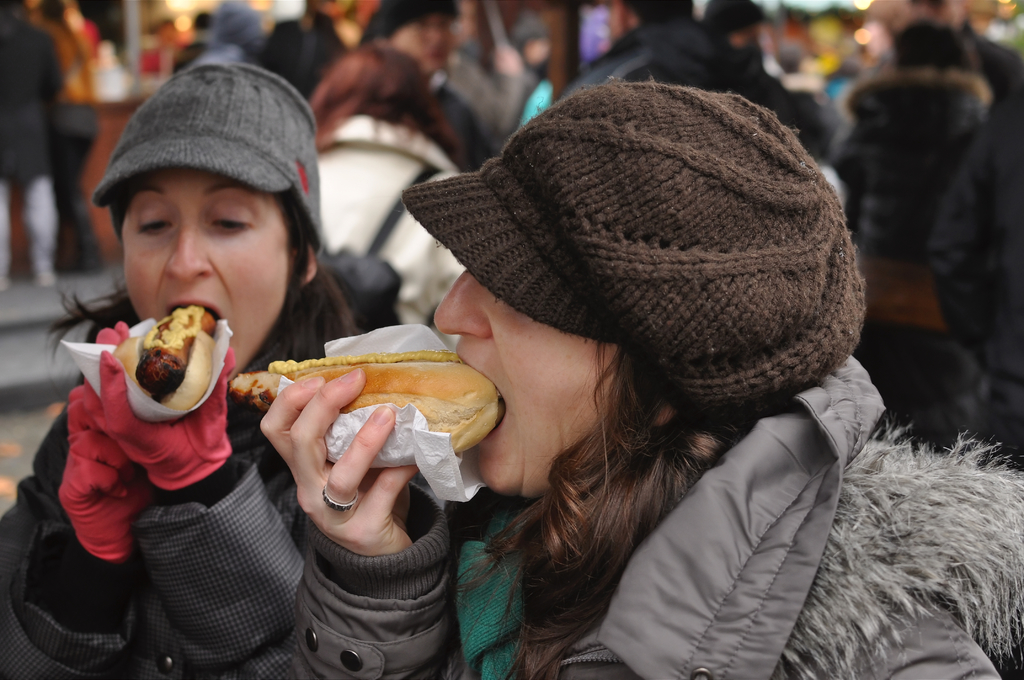hot_dog: (257, 321, 510, 481), (110, 307, 215, 410)
